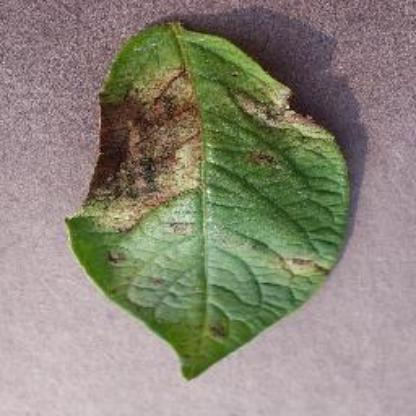Late-Blight: (63, 13, 355, 387)
